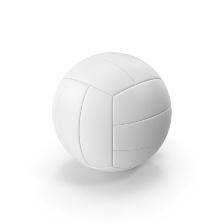Sports-Ball: (52, 52, 172, 179)
